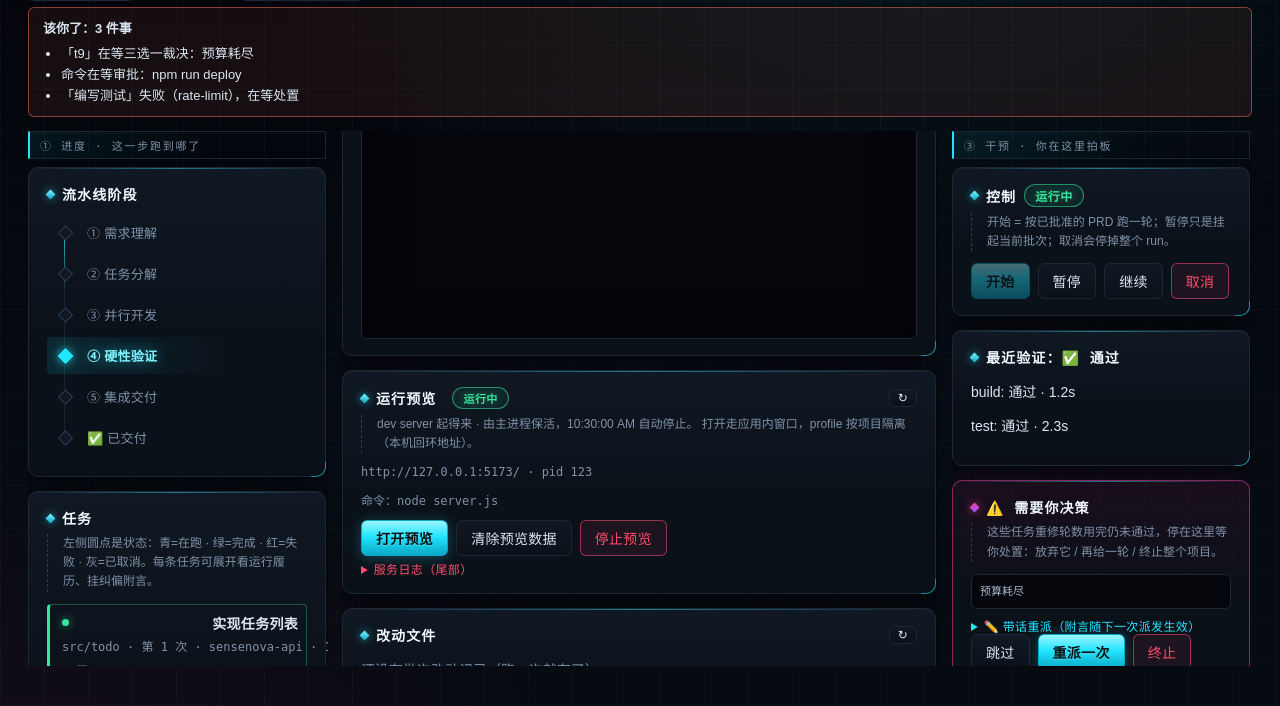
Test: BoardPage › 运行预览（preview:status/open/stop） › 读取失败时说出来（刷新按钮可重试）
The width and height of the screenshot is (1280, 706).
(page scrolled)
Expected: the heading "运行预览 运行中 ↻" is shown, [361,387,917,409]
Click the button titled "重新读取预览状态" in the row of "运行预览" at (903, 398), box [889,389,917,407]
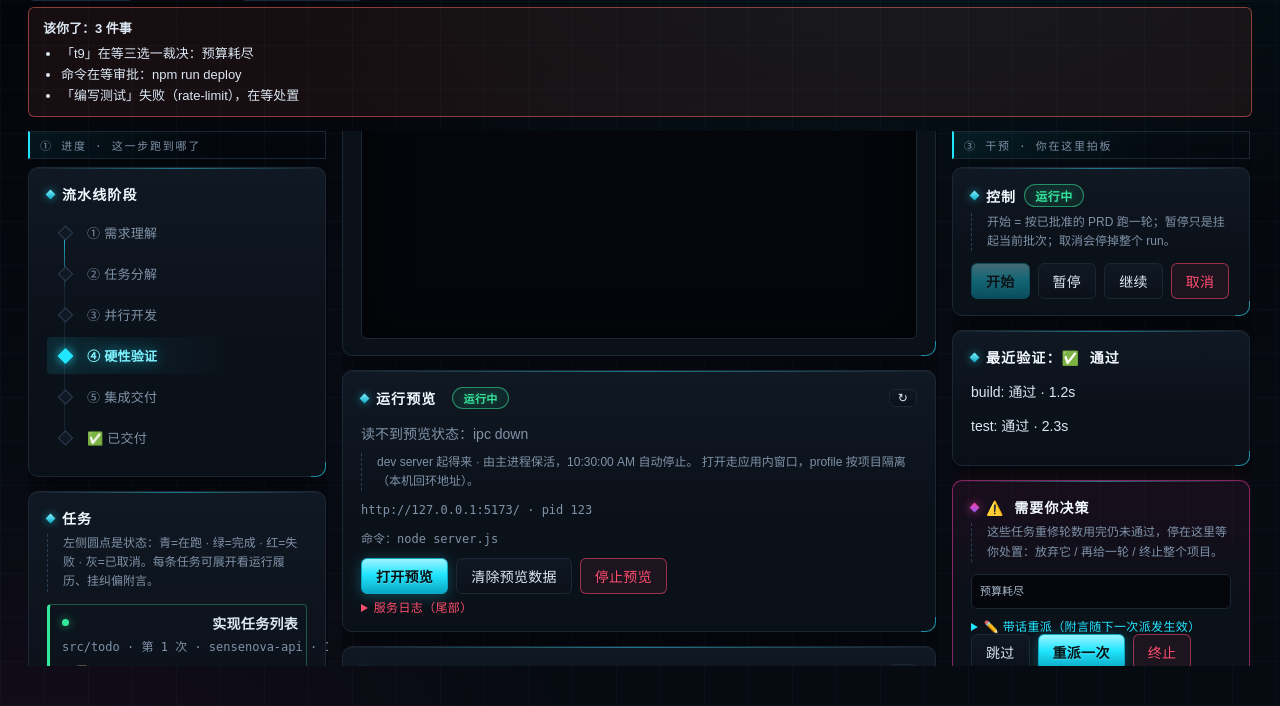
Now the text "读不到预览状态：ipc down" is shown, box [361,426,528,442]
